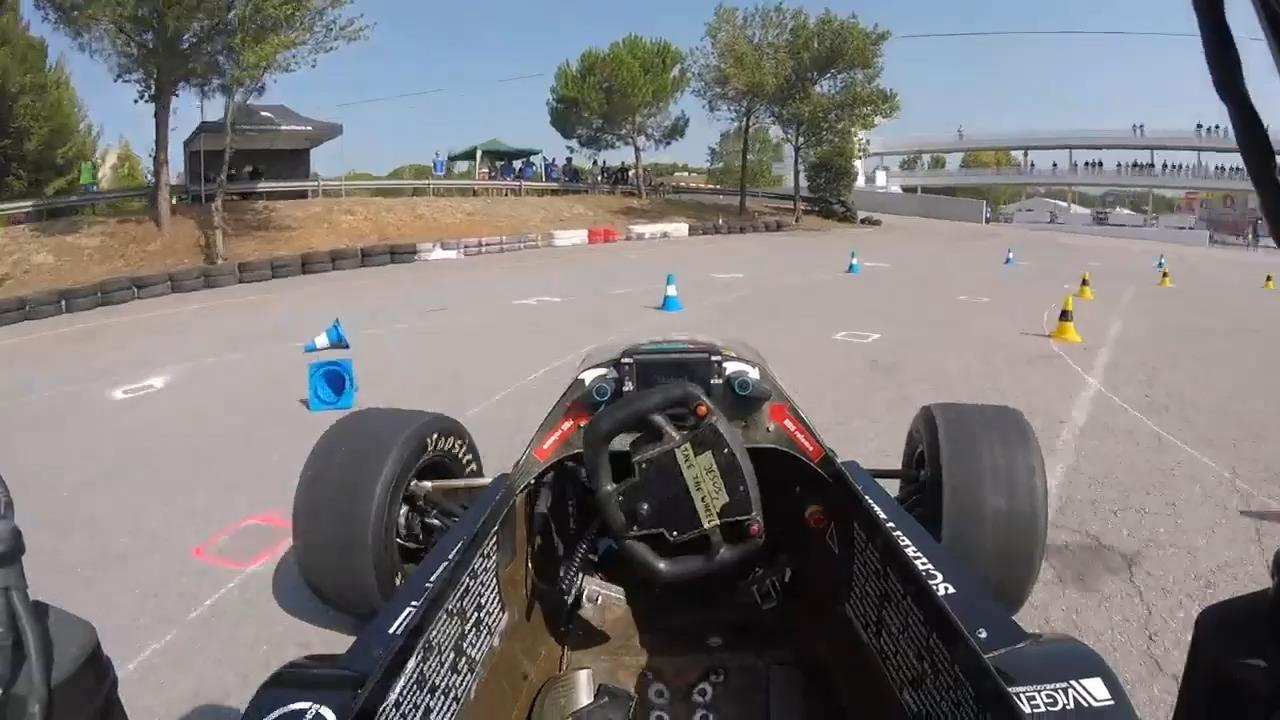blue_cone: (299, 355, 366, 415), (301, 319, 354, 356), (660, 273, 686, 313), (845, 251, 863, 275), (1004, 248, 1018, 268), (1154, 255, 1169, 269)
yellow_cone: (1049, 301, 1086, 345), (1069, 271, 1099, 307), (1159, 265, 1176, 291), (1259, 268, 1276, 290)
